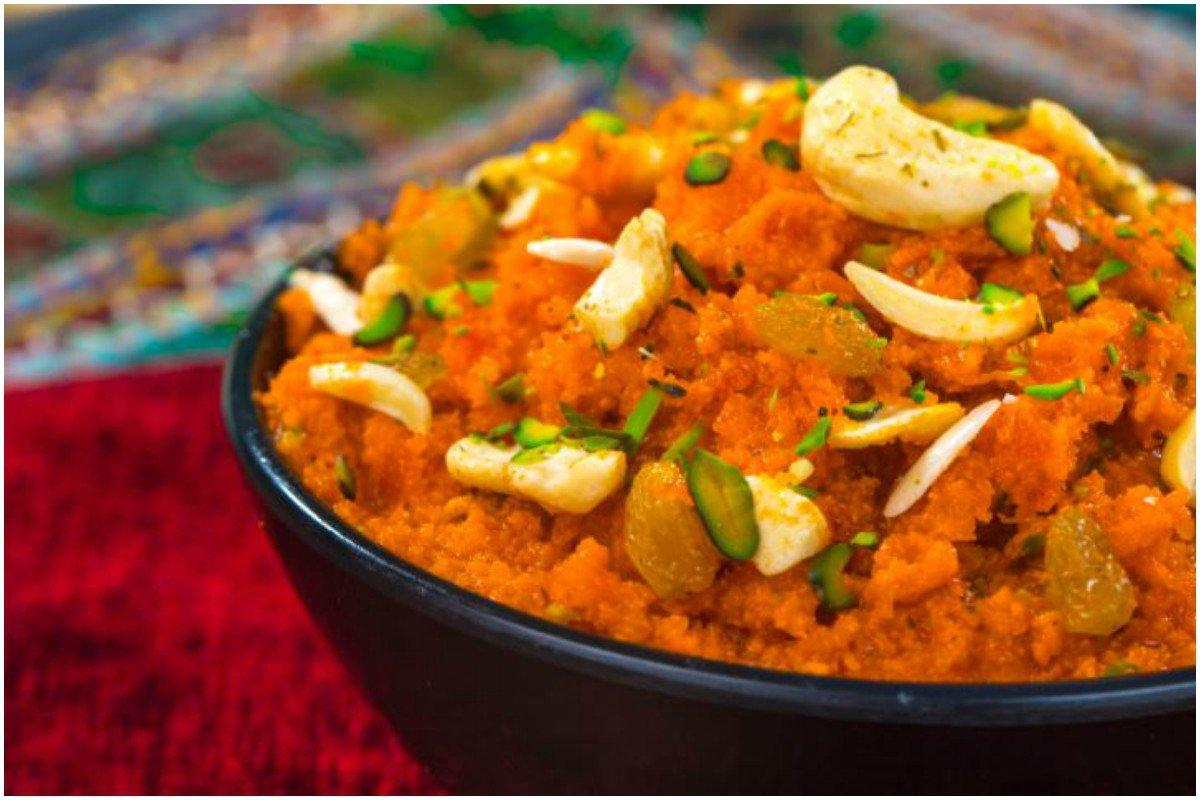Gajar ka halwa: (243, 44, 1200, 786)
